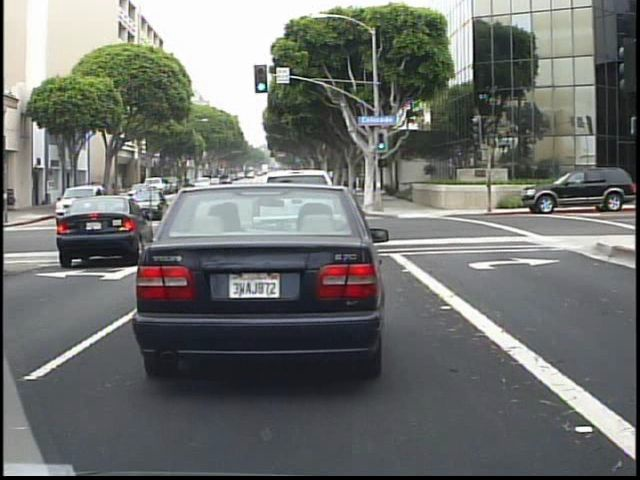person: (82, 180, 98, 215)
